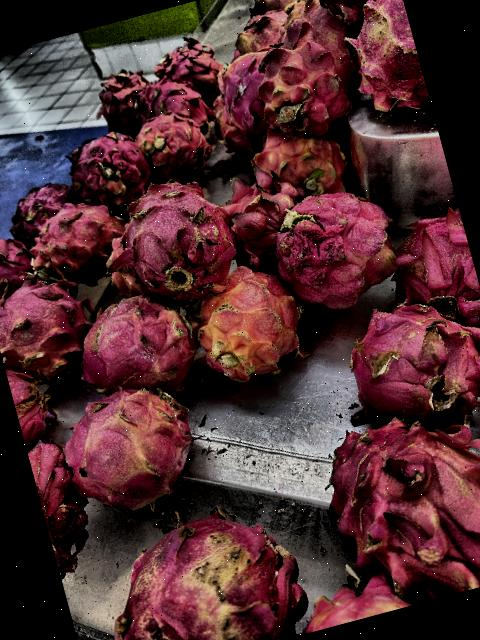buah-naga-belum-matang: (93, 488, 317, 640), (48, 373, 206, 518), (182, 260, 311, 382), (234, 115, 356, 214), (244, 0, 317, 18)
buah-naga-matang: (305, 382, 480, 614), (327, 279, 480, 442), (106, 166, 244, 306), (61, 279, 205, 412), (264, 178, 402, 314), (240, 0, 368, 138), (383, 198, 480, 338), (0, 261, 100, 389), (25, 431, 108, 577), (21, 195, 130, 292), (340, 0, 430, 117), (56, 122, 154, 215), (126, 106, 225, 190), (216, 174, 303, 268), (146, 29, 232, 104), (130, 71, 214, 143), (203, 55, 275, 136), (5, 359, 61, 444), (2, 174, 80, 230), (90, 64, 151, 133), (0, 231, 36, 301), (308, 0, 402, 22)
